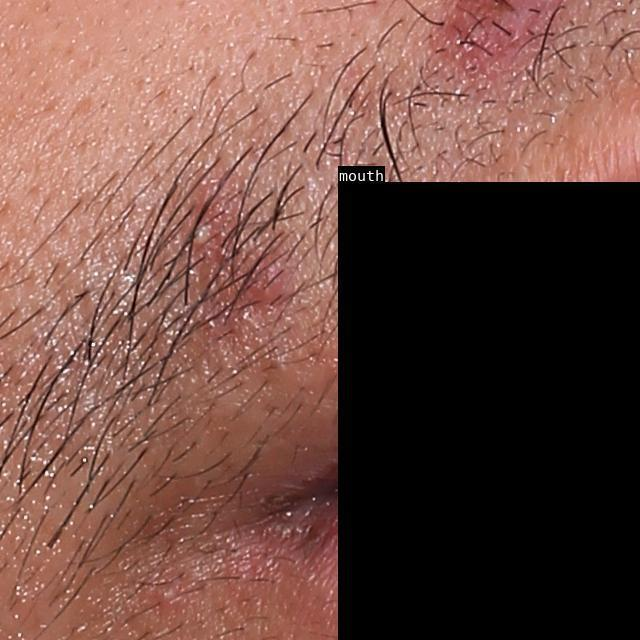papule: (243, 247, 291, 308), (154, 579, 184, 611)
pustule: (170, 189, 229, 282)
